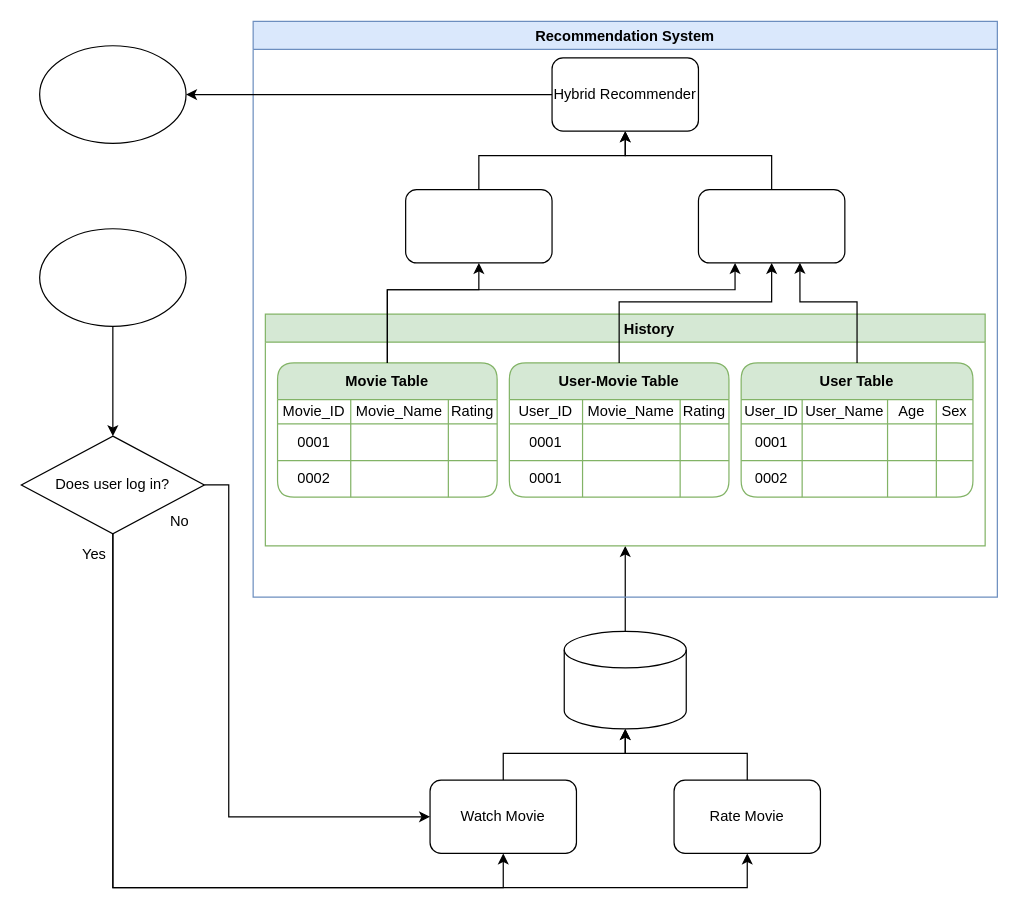
Some shapes in this 1019 by 919 pixel diagram are drawn without their labels. The centre of each missing label's shape, as x and y in pixels:
Content-based Model: the point at 478,225
Database: the point at 624,679
Home page: the point at 112,277
Model-based Collaborative Filtering Model: the point at 771,225
Recommend Movies: the point at 112,94
